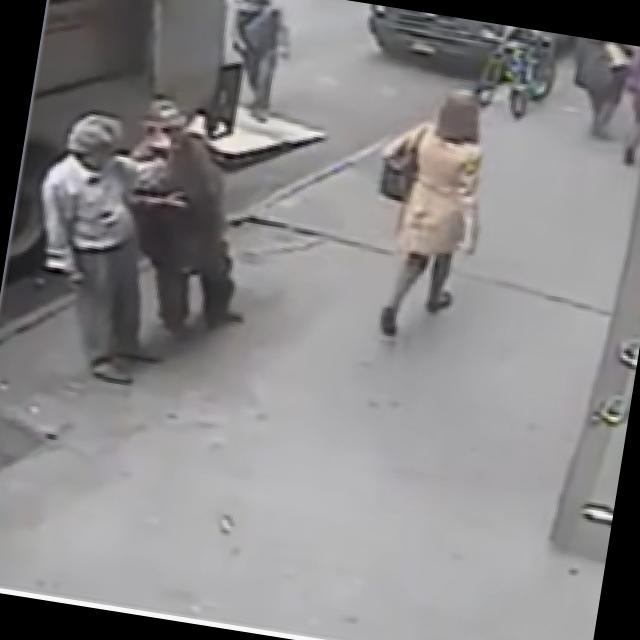person: (14, 104, 189, 388), (100, 91, 270, 344), (354, 78, 500, 344)
